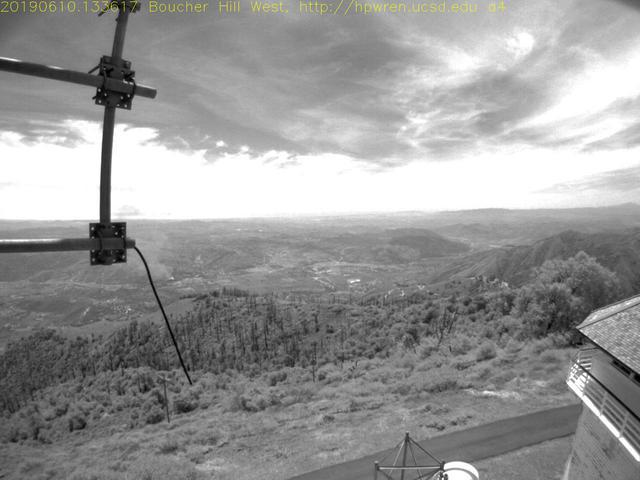smoke: (134, 226, 178, 285)
